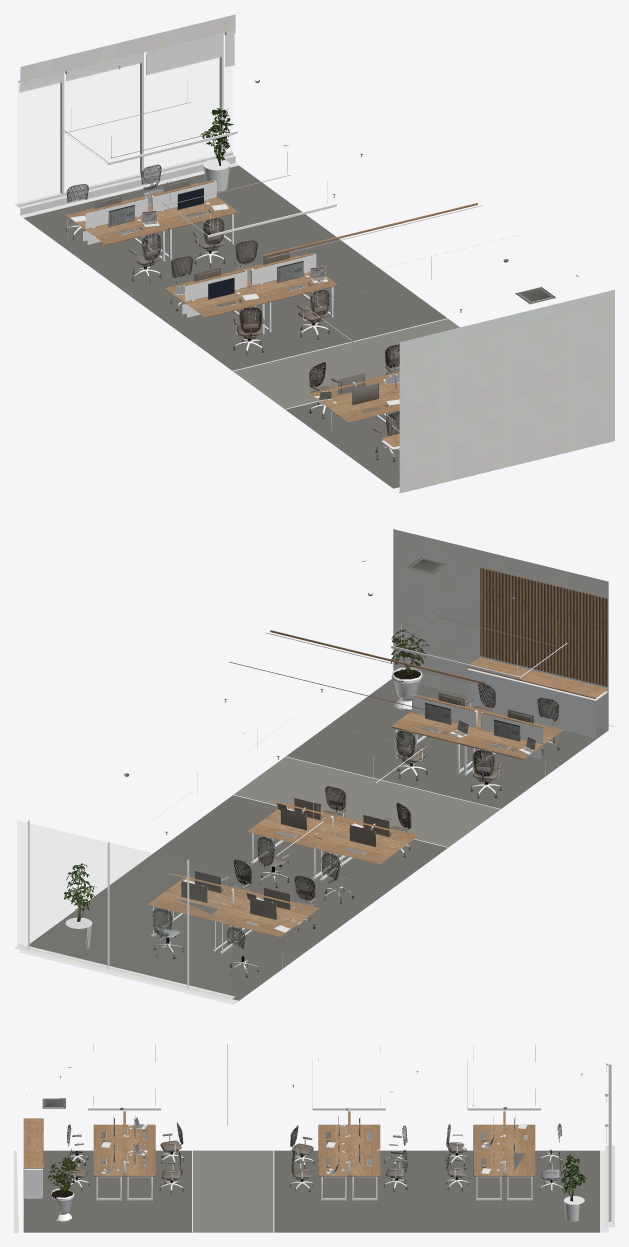
The model's file is z-open_c-lite.full.8d353f52.glb.
The picture shows the model from 3 angles, top to bottom: view 1: azimuth 30°, elevation 25°; view 2: azimuth 150°, elevation 25°; view 3: azimuth 270°, elevation 25°; orthographic projection. The views are drawn at different scales.
Visible parts, largest first — view 1: open_c_carpet, open_c_plaster, open_c_satin, open_c_fx, open_c_oak, open_c_emit, open_c_metal_lit, open_c_veg_atlas; view 2: open_c_carpet, open_c_plaster, open_c_oak, open_c_satin, open_c_fx, open_c_proxy_slat, open_c_veg_atlas, open_c_emit, open_c_metal_lit; view 3: open_c_carpet, open_c_oak, open_c_satin, open_c_fx, open_c_metal_lit, open_c_veg_atlas, open_c_plaster.
Part boxes in pixels (x1,y1,x2,y2): open_c_carpet: (24,165,459,488); open_c_plaster: (14,14,614,493); open_c_satin: (16,30,578,449); open_c_fx: (65,66,555,462); open_c_oak: (65,180,477,446); open_c_emit: (65,102,482,341); open_c_metal_lit: (23,145,399,456); open_c_veg_atlas: (200,108,233,165); open_c_carpet: (27,678,608,1000); open_c_plaster: (14,529,614,1000); open_c_oak: (147,630,608,936); open_c_satin: (16,560,607,1004); open_c_fx: (124,557,559,977); open_c_proxy_slat: (480,568,607,686); open_c_veg_atlas: (64,629,428,921); open_c_emit: (265,566,606,856); open_c_metal_lit: (156,695,555,1000); open_c_carpet: (23,1150,599,1232); open_c_oak: (23,1044,535,1176); open_c_satin: (23,1044,611,1232); open_c_fx: (42,1071,582,1194); open_c_metal_lit: (66,1091,600,1232); open_c_veg_atlas: (48,1154,586,1201); open_c_plaster: (14,1145,614,1232).
Bounding box in the file's own units: 5 × 3.36 × 15.5.
Materials: 10 (7 with a texture image).
